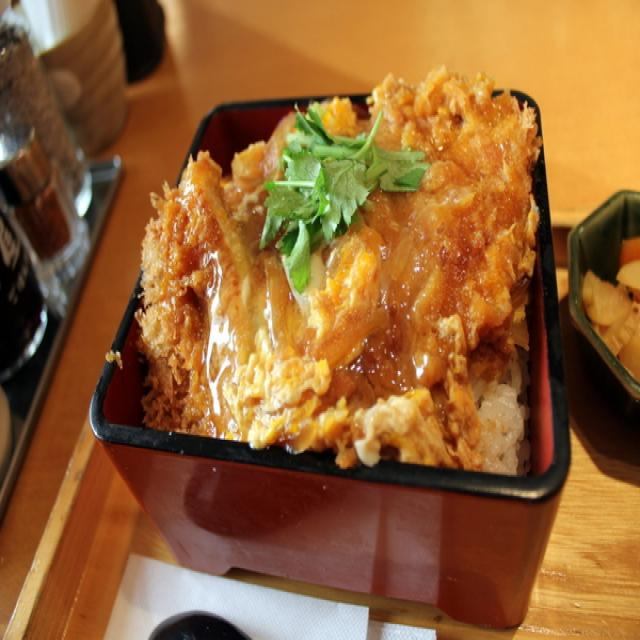熟制海鲜: (115, 81, 587, 628)
